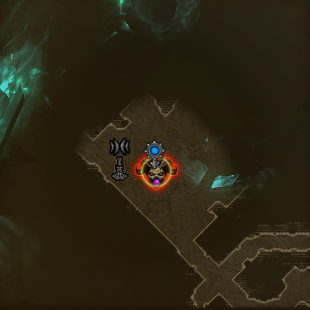Guardian: (133, 155, 179, 192)
